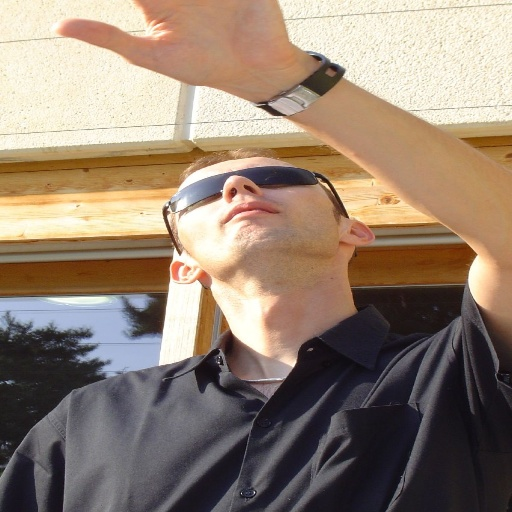hand: (65, 0, 350, 113)
